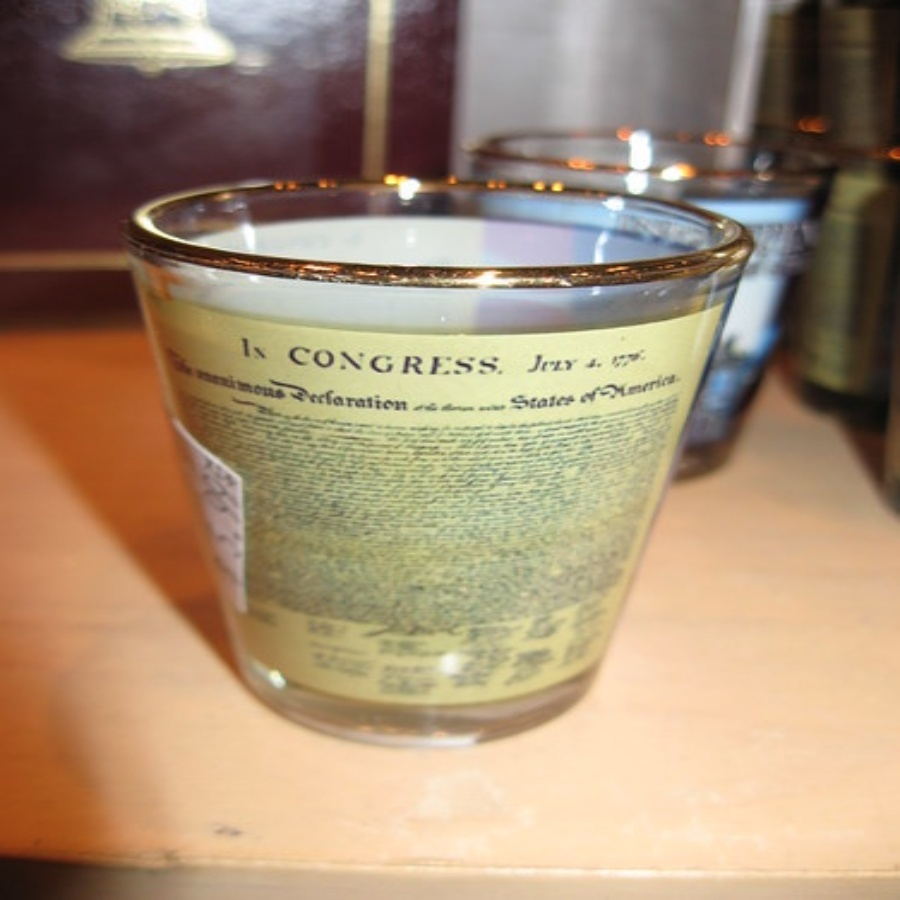whiskey: (156, 173, 761, 740)
